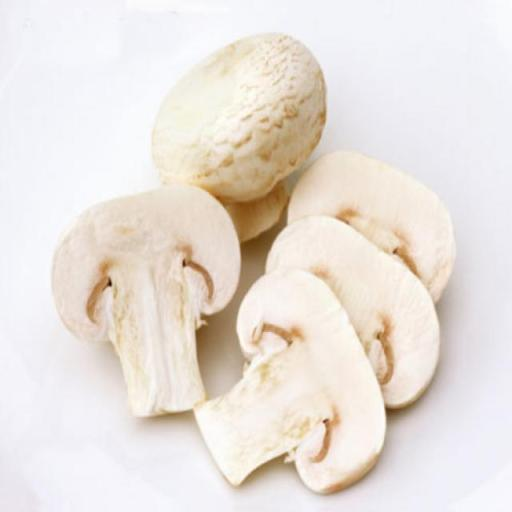Button Mushroom: (53, 180, 240, 417), (197, 273, 387, 490), (150, 28, 327, 239)
